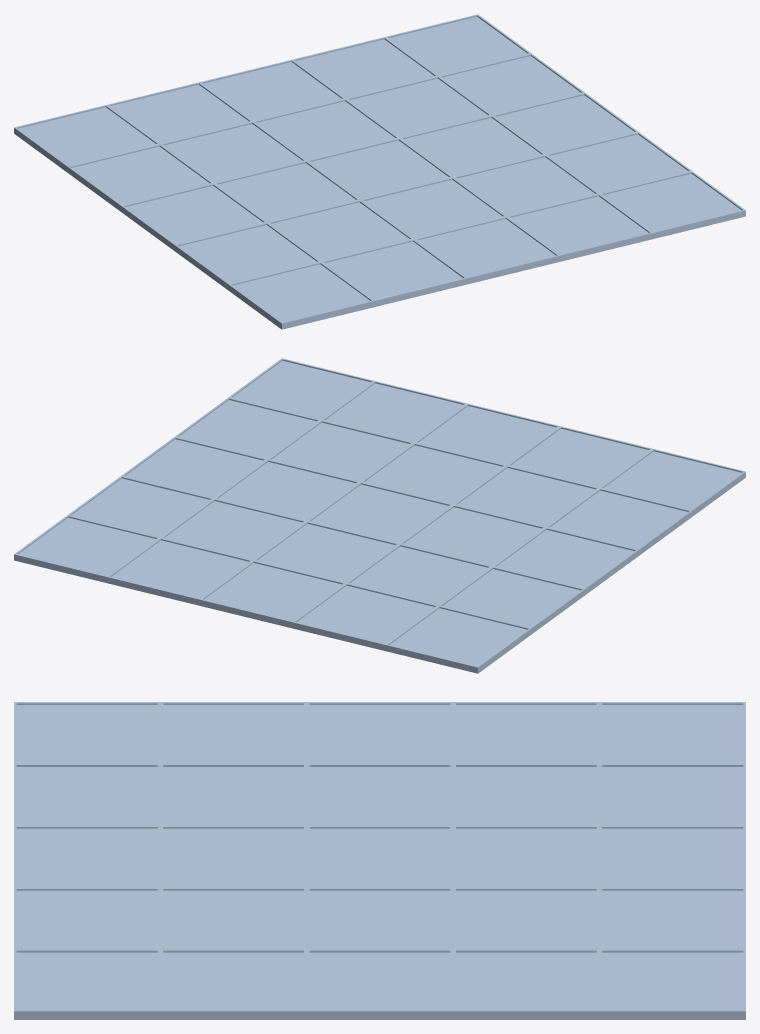
The model's file is Board.glb.
3 views of the same model, one above another, from view 1: azimuth 30°, elevation 25°; view 2: azimuth 150°, elevation 25°; view 3: azimuth 270°, elevation 25° (orthographic). The views are drawn at different scales.
Parts seen in each view (by area): view 1: SQ_20, SQ_22, SQ_21, SQ_23, SQ_24, SQ_5, SQ_15, SQ_10, SQ_0, SQ_7, SQ_13, SQ_2 (+13 smaller); view 2: SQ_0, SQ_2, SQ_1, SQ_3, SQ_4, SQ_15, SQ_5, SQ_10, SQ_20, SQ_13, SQ_17, SQ_7 (+13 smaller); view 3: SQ_14, SQ_9, SQ_19, SQ_4, SQ_24, SQ_13, SQ_8, SQ_18, SQ_3, SQ_23, SQ_12, SQ_11 (+13 smaller).
Part boxes in pixels (x1,y1,x2,y2): SQ_20: [228, 262, 374, 329]; SQ_22: [414, 216, 560, 284]; SQ_21: [321, 239, 467, 306]; SQ_23: [507, 194, 653, 261]; SQ_24: [600, 171, 745, 238]; SQ_5: [67, 144, 213, 211]; SQ_15: [174, 222, 320, 289]; SQ_10: [121, 183, 267, 250]; SQ_0: [14, 105, 159, 172]; SQ_7: [253, 99, 398, 160]; SQ_13: [400, 115, 545, 176]; SQ_2: [200, 59, 345, 121]; SQ_0: [385, 606, 531, 673]; SQ_2: [199, 560, 345, 628]; SQ_1: [292, 583, 438, 650]; SQ_3: [106, 538, 252, 605]; SQ_4: [14, 515, 159, 582]; SQ_15: [546, 488, 692, 555]; SQ_5: [439, 566, 585, 633]; SQ_10: [492, 527, 638, 594]; SQ_20: [600, 449, 745, 516]; SQ_13: [214, 459, 359, 520]; SQ_17: [361, 443, 506, 504]; SQ_7: [253, 521, 399, 582]; SQ_14: [306, 949, 453, 1019]; SQ_9: [453, 949, 599, 1019]; SQ_19: [160, 949, 306, 1019]; SQ_4: [599, 949, 745, 1019]; SQ_24: [14, 949, 160, 1019]; SQ_13: [306, 887, 453, 949]; SQ_8: [453, 887, 599, 949]; SQ_18: [160, 887, 306, 949]; SQ_3: [599, 887, 745, 949]; SQ_23: [14, 887, 160, 949]; SQ_12: [306, 826, 453, 887]; SQ_11: [306, 764, 453, 825].
Size of the model in its own units: 10 by 0.1273 by 10.
